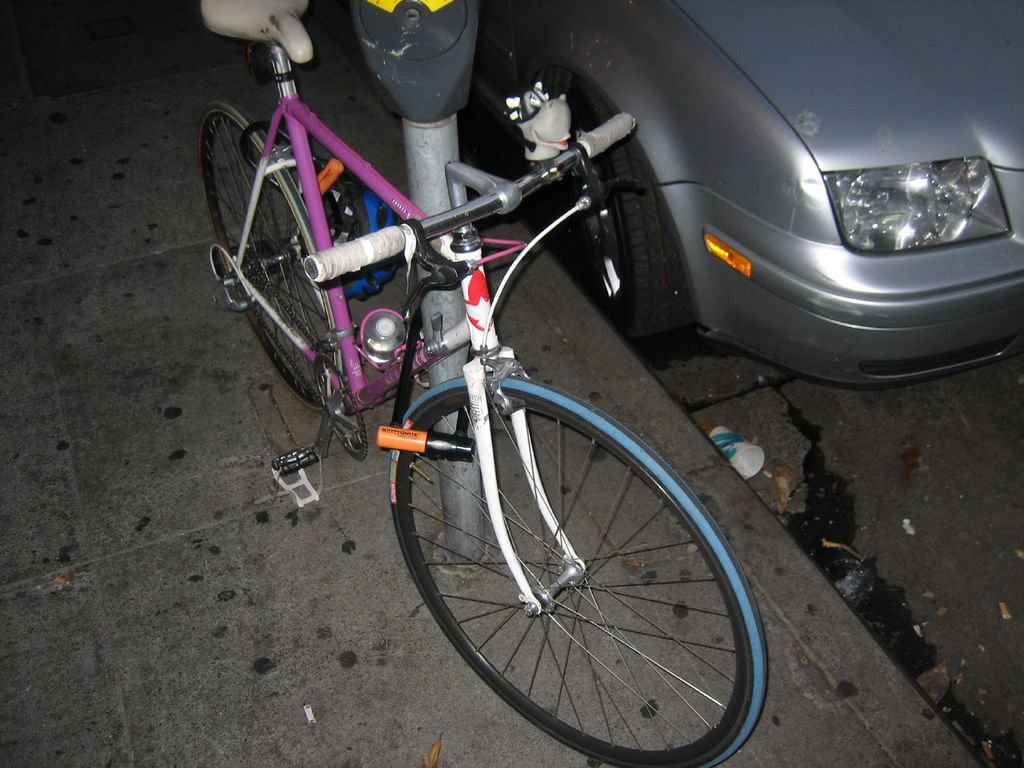Car: (468, 0, 1023, 385)
